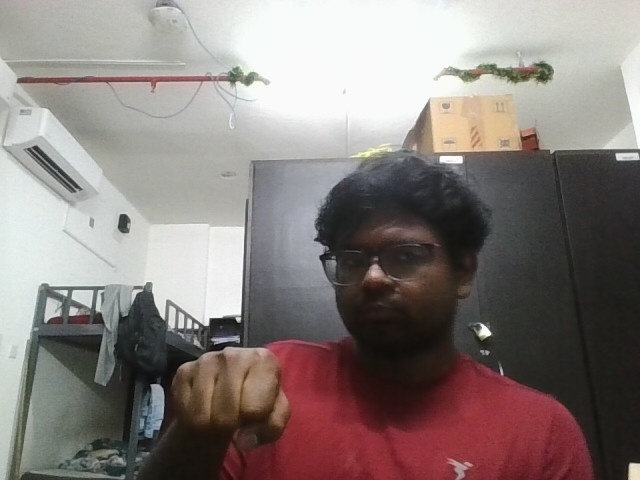Yes: (158, 338, 314, 451)
